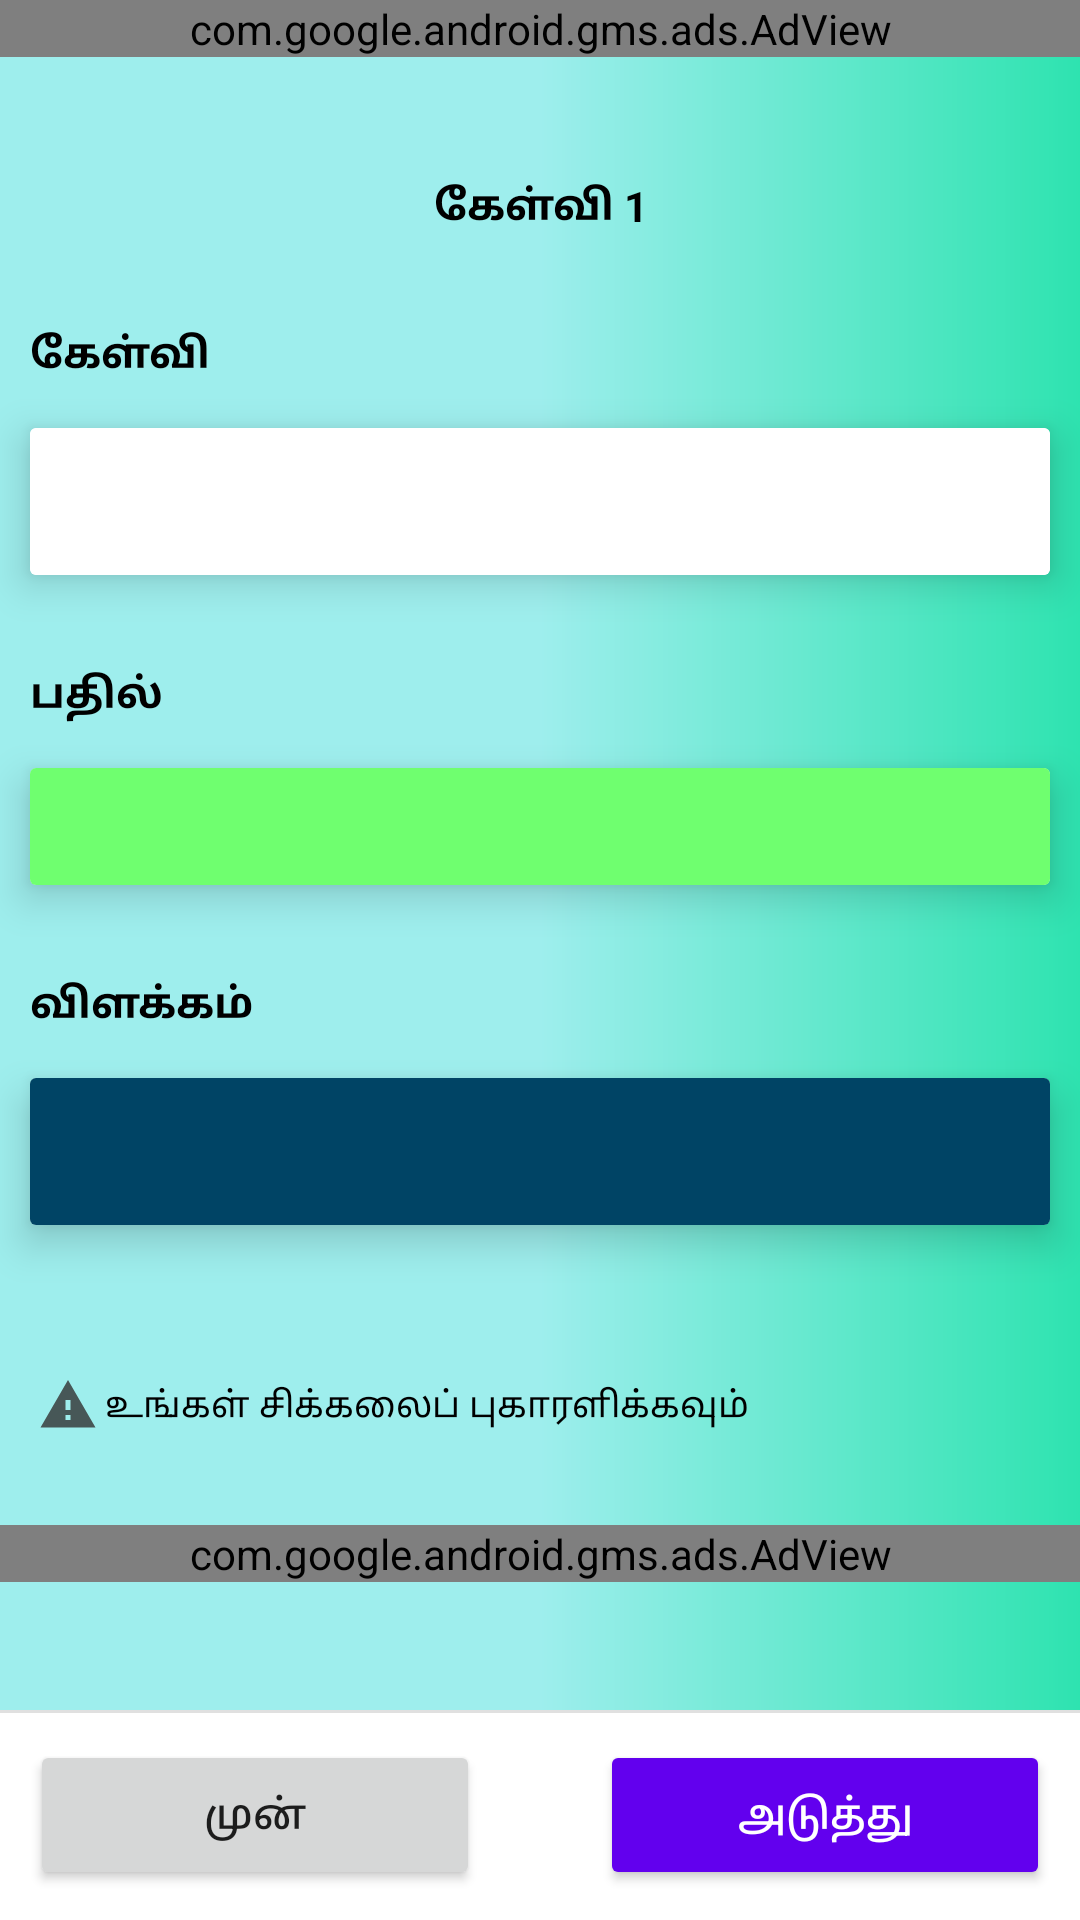

Icons on this 1080px x 1920px Android screen, each with the point to tap as [x,y]:
report: [68,1404]
